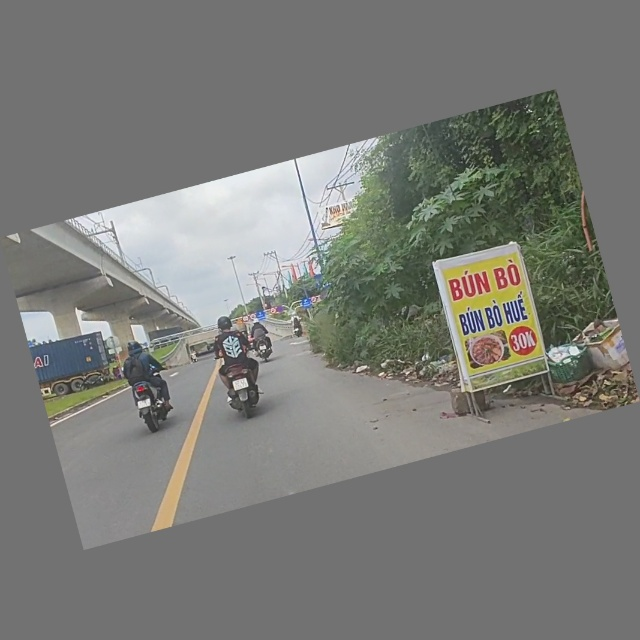P.107: (269, 307, 277, 316), (310, 296, 318, 304)
P.117*: (241, 315, 250, 324)
P.127*40: (249, 314, 257, 322)
P.130: (276, 305, 285, 314)
